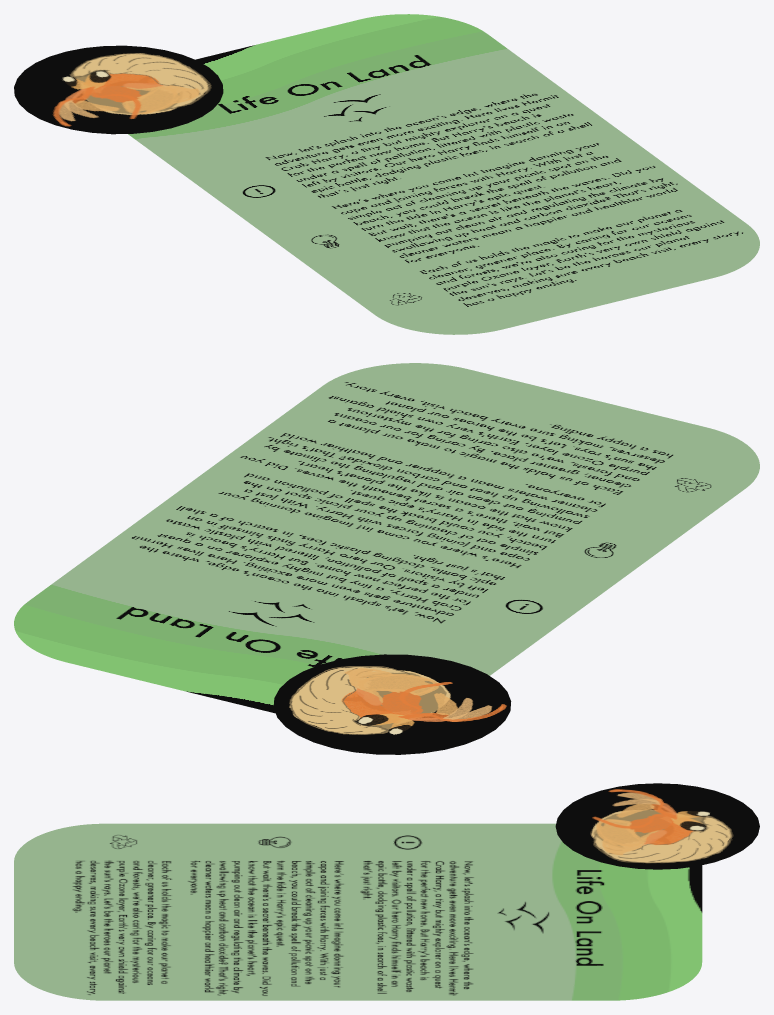
Rendered from ForestFactsglb.glb.
The picture shows the model from 3 angles, top to bottom: view 1: azimuth 30°, elevation 25°; view 2: azimuth 150°, elevation 25°; view 3: azimuth 270°, elevation 25°; orthographic projection. The views are drawn at different scales.
Parts seen in each view (by area): view 1: Forest Facts; view 2: Forest Facts; view 3: Forest Facts.
Boxes of the visible parts, box(x1,y1,x2,y2) form: Forest Facts: box(14, 14, 759, 334); Forest Facts: box(14, 363, 759, 754); Forest Facts: box(14, 783, 759, 1000).
Bounding box in the file's own units: 2.34 × 0.0544 × 3.56.
2 materials, 2 textured.
